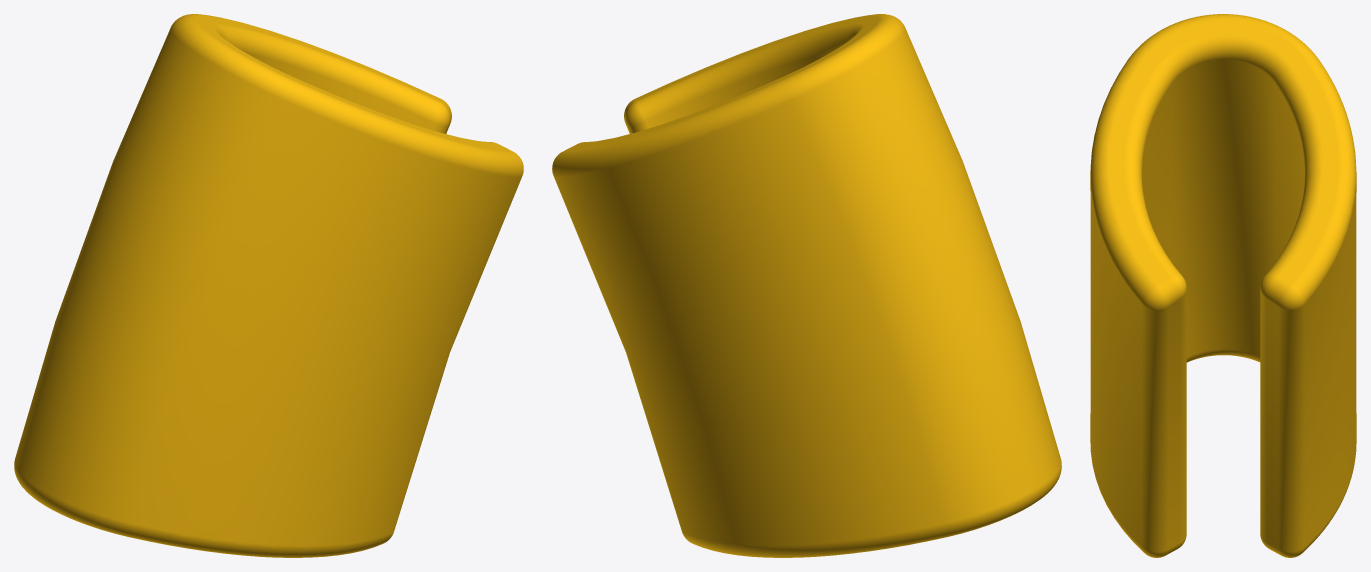
The model's file is _60355K291_Steel_Ball_Bearing_21.gltf.
3 views of the same model, side by side, from view 1: azimuth 30°, elevation 25°; view 2: azimuth 150°, elevation 25°; view 3: azimuth 270°, elevation 25° (orthographic). The views are drawn at different scales.
Visible parts, largest first — view 1: mesh56744, mesh56741, mesh56743, mesh56740, mesh56742, mesh56731, mesh56753, mesh56748, mesh56738; view 2: mesh56732, mesh56741, mesh56728, mesh56759, mesh56737, mesh56731, mesh56753, mesh56762, mesh56738; view 3: mesh56757, mesh56744, mesh56732, mesh56753, mesh56730, mesh56745, mesh56728, mesh56743, mesh56759, mesh56740, mesh56748, mesh56762 (+11 smaller).
Part boxes in pixels (left/top/right/bottom): mesh56744: left=133, top=101, right=520, bottom=545; mesh56741: left=14, top=28, right=285, bottom=523; mesh56743: left=286, top=80, right=522, bottom=177; mesh56740: left=220, top=23, right=438, bottom=120; mesh56742: left=129, top=524, right=392, bottom=557; mesh56731: left=170, top=14, right=292, bottom=100; mesh56753: left=196, top=16, right=511, bottom=151; mesh56748: left=246, top=53, right=429, bottom=128; mesh56738: left=14, top=460, right=132, bottom=536; mesh56732: left=555, top=101, right=942, bottom=545; mesh56741: left=790, top=28, right=1061, bottom=523; mesh56728: left=553, top=80, right=789, bottom=177; mesh56759: left=637, top=23, right=855, bottom=120; mesh56737: left=683, top=524, right=946, bottom=557; mesh56731: left=783, top=14, right=905, bottom=100; mesh56753: left=564, top=16, right=879, bottom=151; mesh56762: left=646, top=53, right=829, bottom=128; mesh56738: left=943, top=460, right=1061, bottom=536; mesh56757: left=1172, top=59, right=1274, bottom=356; mesh56744: left=1090, top=177, right=1141, bottom=546; mesh56732: left=1305, top=176, right=1356, bottom=546; mesh56753: left=1108, top=21, right=1338, bottom=284; mesh56730: left=1278, top=305, right=1304, bottom=551; mesh56745: left=1142, top=305, right=1168, bottom=551; mesh56728: left=1290, top=57, right=1356, bottom=303; mesh56743: left=1090, top=57, right=1156, bottom=303; mesh56759: left=1124, top=65, right=1181, bottom=276; mesh56740: left=1265, top=65, right=1322, bottom=276; mesh56748: left=1275, top=83, right=1304, bottom=262; mesh56762: left=1142, top=83, right=1171, bottom=262.
Bounding box in the file's own units: 0.0027 × 0.00292 × 0.00147.
